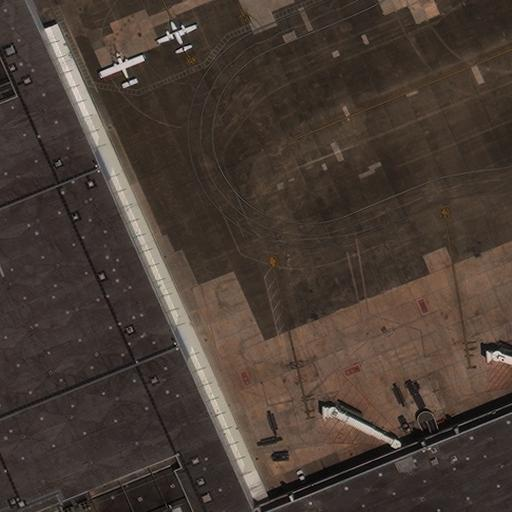Small Civil Transport: (98, 52, 143, 87), (157, 21, 194, 51)
